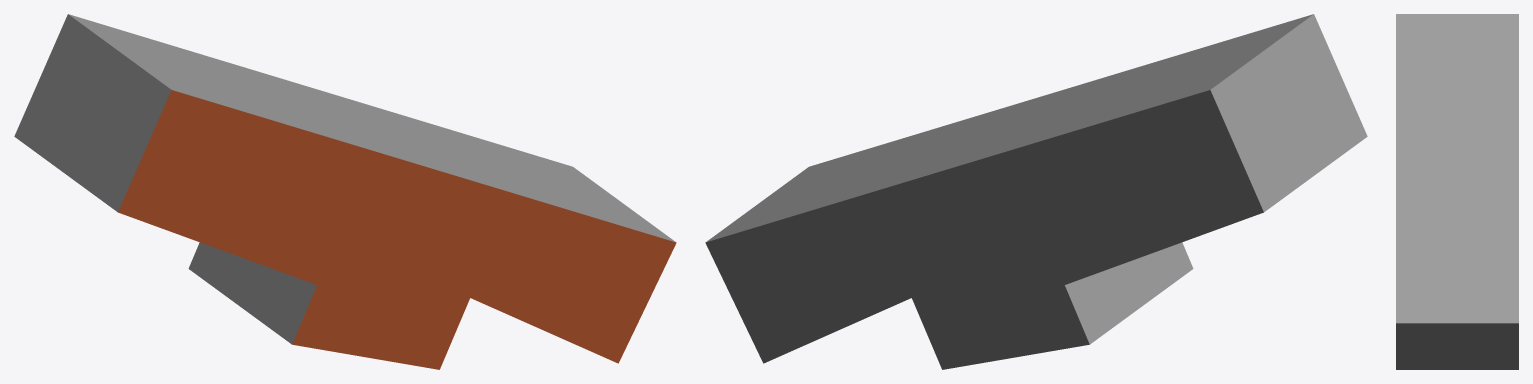
The model's file is construction_4809_assumed_A_Casa_h6m.obj.
3 views of the same model, side by side, from view 1: azimuth 30°, elevation 25°; view 2: azimuth 150°, elevation 25°; view 3: azimuth 270°, elevation 25° (orthographic). The views are drawn at different scales.
Visible parts, largest first — view 1: construction_4809_assumed_A_Casa; view 2: construction_4809_assumed_A_Casa; view 3: construction_4809_assumed_A_Casa.
Boxes of the visible parts, bbox=[...] form: construction_4809_assumed_A_Casa: bbox=[14, 14, 676, 369]; construction_4809_assumed_A_Casa: bbox=[705, 14, 1367, 369]; construction_4809_assumed_A_Casa: bbox=[1396, 14, 1518, 369].
Bounding box in the file's own units: 18.67 × 12.23 × 6.
